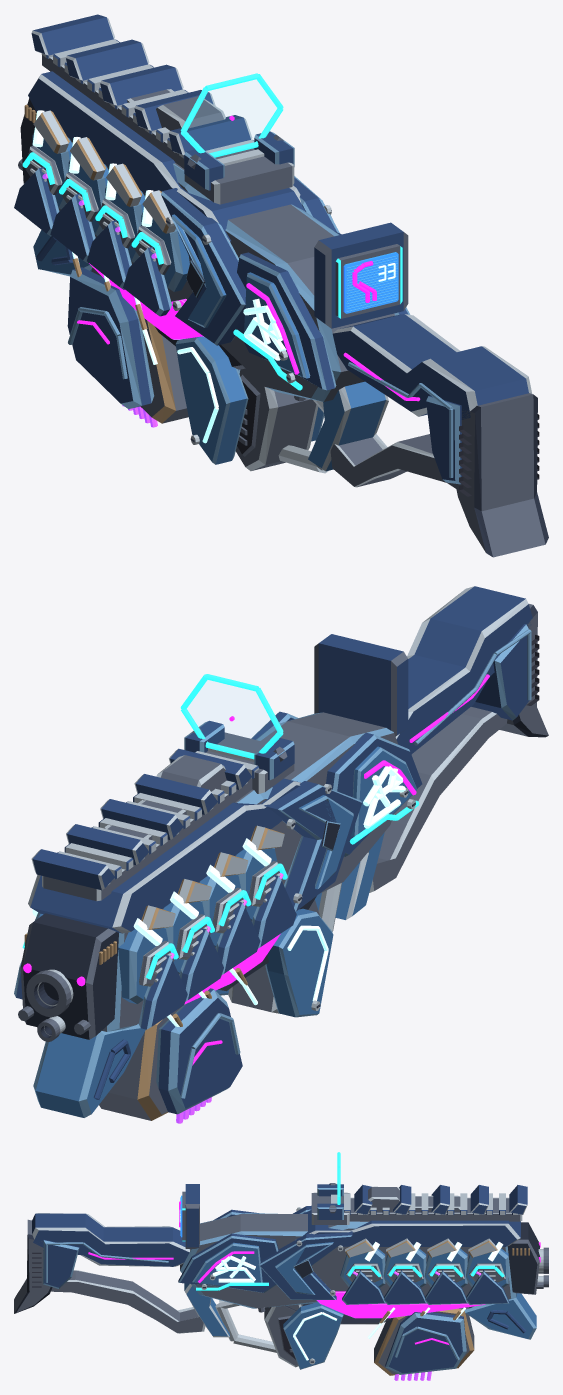
File: neon_legend_smg.glb
The picture shows the model from 3 angles, top to bottom: view 1: azimuth 30°, elevation 25°; view 2: azimuth 150°, elevation 25°; view 3: azimuth 270°, elevation 25°; orthographic projection. The views are drawn at different scales.
Parts seen in each view (by area): view 1: Stock_Butt, Rail_Lugs, Stock_Upper, Receiver_Core, Upper_Armor, Magazine_Armor, Receiver_Chevrons, Grip_Armor, Rear_Armor, ADS_Mount, Energy_Cell_04, Pistol_Grip (+20 smaller); view 2: Rail_Lugs, Stock_Upper, Upper_Armor, Muzzle_Housing, Receiver_Core, Ammo_Display_Housing, Magazine_Armor, Stock_Lower, Foregrip, Receiver_Chevrons, Energy_Cell_01, Grip_Armor (+18 smaller); view 3: Receiver_Core, Stock_Upper, Upper_Armor, Magazine_Armor, Receiver_Chevrons, Rail_Lugs, Rear_Armor, Stock_Lower, Stock_Butt, Grip_Armor, Energy_Cell_04, Energy_Cell_01 (+18 smaller).
Boxes of the visible parts, <box> form: Stock_Butt: <box>426,393,548,557</box>; Rail_Lugs: <box>31,14,264,165</box>; Stock_Upper: <box>332,314,532,419</box>; Receiver_Core: <box>58,139,398,401</box>; Upper_Armor: <box>28,71,305,241</box>; Magazine_Armor: <box>67,267,240,409</box>; Receiver_Chevrons: <box>161,176,339,345</box>; Grip_Armor: <box>175,336,324,464</box>; Rear_Armor: <box>236,231,410,390</box>; ADS_Mount: <box>184,131,294,204</box>; Energy_Cell_04: <box>123,190,189,316</box>; Pistol_Grip: <box>236,368,318,471</box>; Rail_Lugs: <box>31,748,258,890</box>; Stock_Upper: <box>395,586,532,754</box>; Upper_Armor: <box>28,778,300,933</box>; Muzzle_Housing: <box>20,913,118,1039</box>; Receiver_Core: <box>102,712,397,1031</box>; Ammo_Display_Housing: <box>314,634,408,736</box>; Magazine_Armor: <box>156,988,242,1114</box>; Stock_Lower: <box>369,707,507,892</box>; Foregrip: <box>33,1024,145,1117</box>; Receiver_Chevrons: <box>264,781,361,911</box>; Energy_Cell_01: <box>14,905,187,1029</box>; Grip_Armor: <box>215,908,333,1017</box>; Receiver_Core: <box>180,1213,516,1308</box>; Stock_Upper: <box>32,1213,190,1266</box>; Upper_Armor: <box>295,1210,520,1246</box>; Magazine_Armor: <box>385,1312,466,1374</box>; Receiver_Chevrons: <box>258,1205,352,1299</box>; Rail_Lugs: <box>331,1184,527,1214</box>; Rear_Armor: <box>178,1209,278,1292</box>; Stock_Lower: <box>51,1270,205,1333</box>; Stock_Butt: <box>14,1219,79,1313</box>; Grip_Armor: <box>283,1302,343,1369</box>; Energy_Cell_04: <box>340,1238,385,1304</box>; Energy_Cell_01: <box>466,1238,509,1304</box>.
Bounding box in the file's own units: 0.118 × 0.3096 × 0.703.
